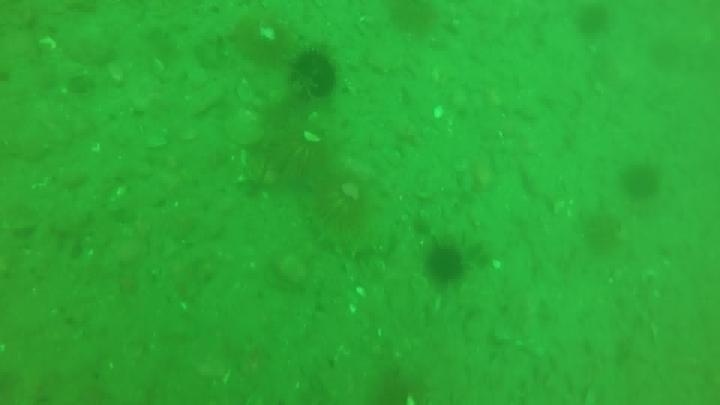echinus: (258, 99, 345, 186), (307, 161, 385, 240), (287, 47, 340, 102), (385, 1, 440, 38), (579, 210, 624, 255), (422, 243, 467, 286), (618, 161, 663, 202), (572, 3, 613, 39)
holothurian: (305, 206, 397, 261)
scallop: (222, 108, 266, 149)
